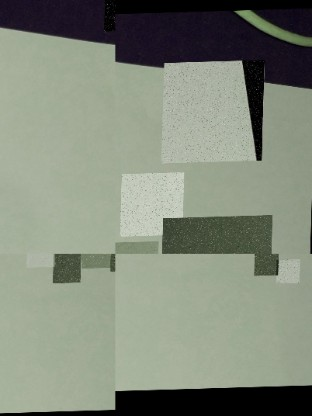ironball: (162, 61, 265, 164), (162, 216, 273, 253), (121, 173, 185, 237), (53, 253, 82, 284), (277, 260, 301, 285), (255, 253, 279, 277), (115, 242, 160, 253), (82, 253, 111, 269), (27, 253, 56, 268), (104, 0, 115, 32)
